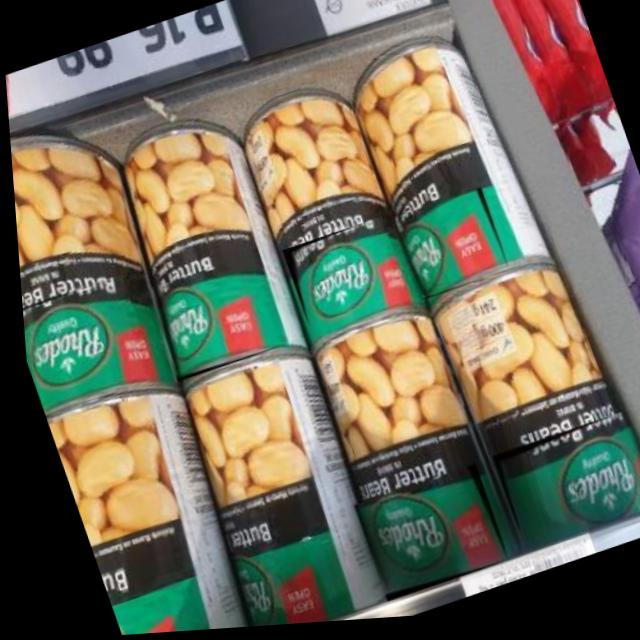Beans: (480, 415, 640, 559), (341, 467, 501, 609), (137, 252, 285, 385), (16, 272, 151, 411), (274, 218, 408, 344), (386, 192, 507, 307)
